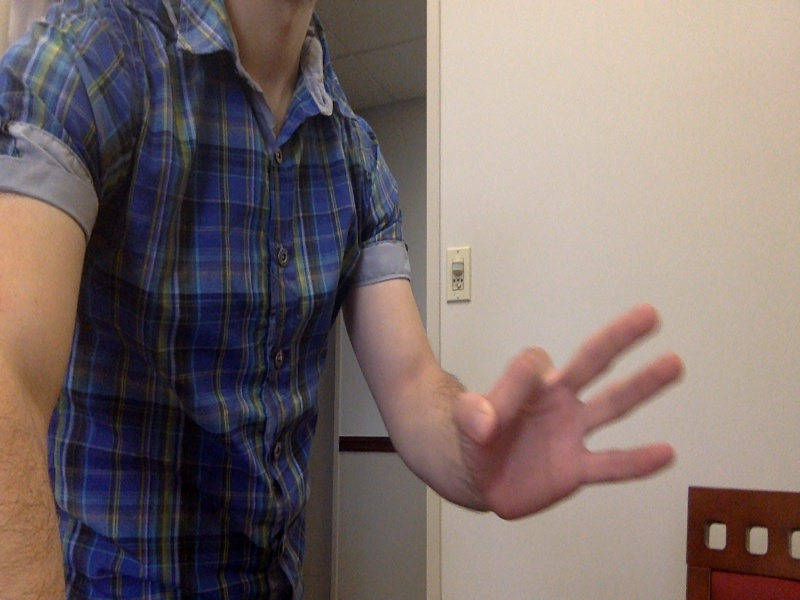3-hand: (455, 304, 685, 526)
